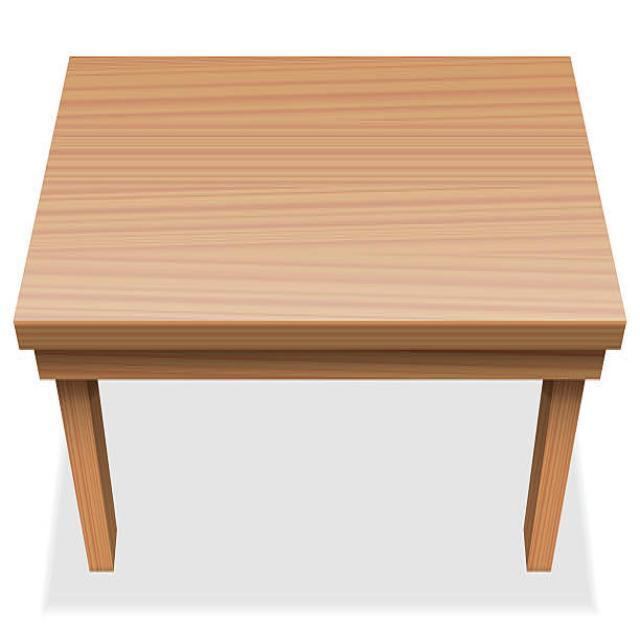table: (12, 53, 626, 574)
